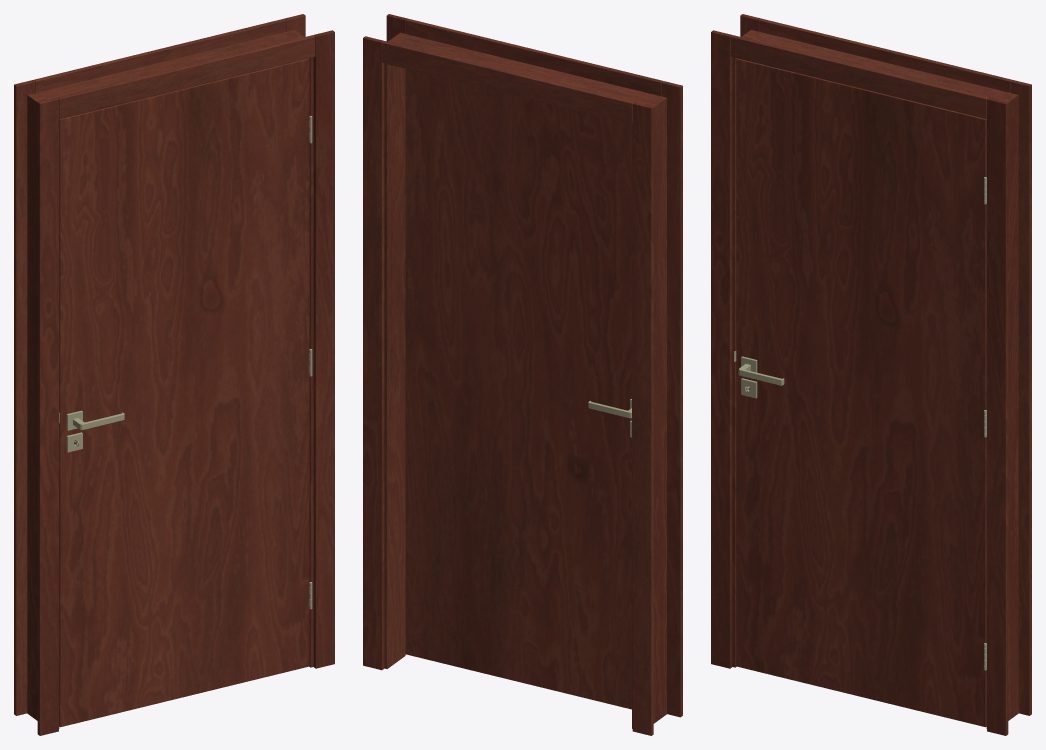
The model's file is porta.fbx.
3 views of the same model, side by side, from view 1: azimuth 30°, elevation 25°; view 2: azimuth 150°, elevation 25°; view 3: azimuth 330°, elevation 25° (orthographic).
Visible parts, largest first — view 1: 1_Door, 2_Frame, 1_Door_Handle; view 2: 1_Door, 2_Frame; view 3: 1_Door, 2_Frame, 1_Door_Handle.
Boxes of the visible parts, x1,y1,x2,y2 form: 1_Door: [59, 58, 309, 727]; 2_Frame: [14, 14, 334, 735]; 1_Door_Handle: [66, 410, 124, 452]; 1_Door: [405, 69, 631, 709]; 2_Frame: [363, 14, 682, 735]; 1_Door: [736, 58, 986, 727]; 2_Frame: [711, 14, 1031, 735]; 1_Door_Handle: [738, 356, 784, 398].
Bounding box in the file's own units: 106 × 218 × 22.4.
